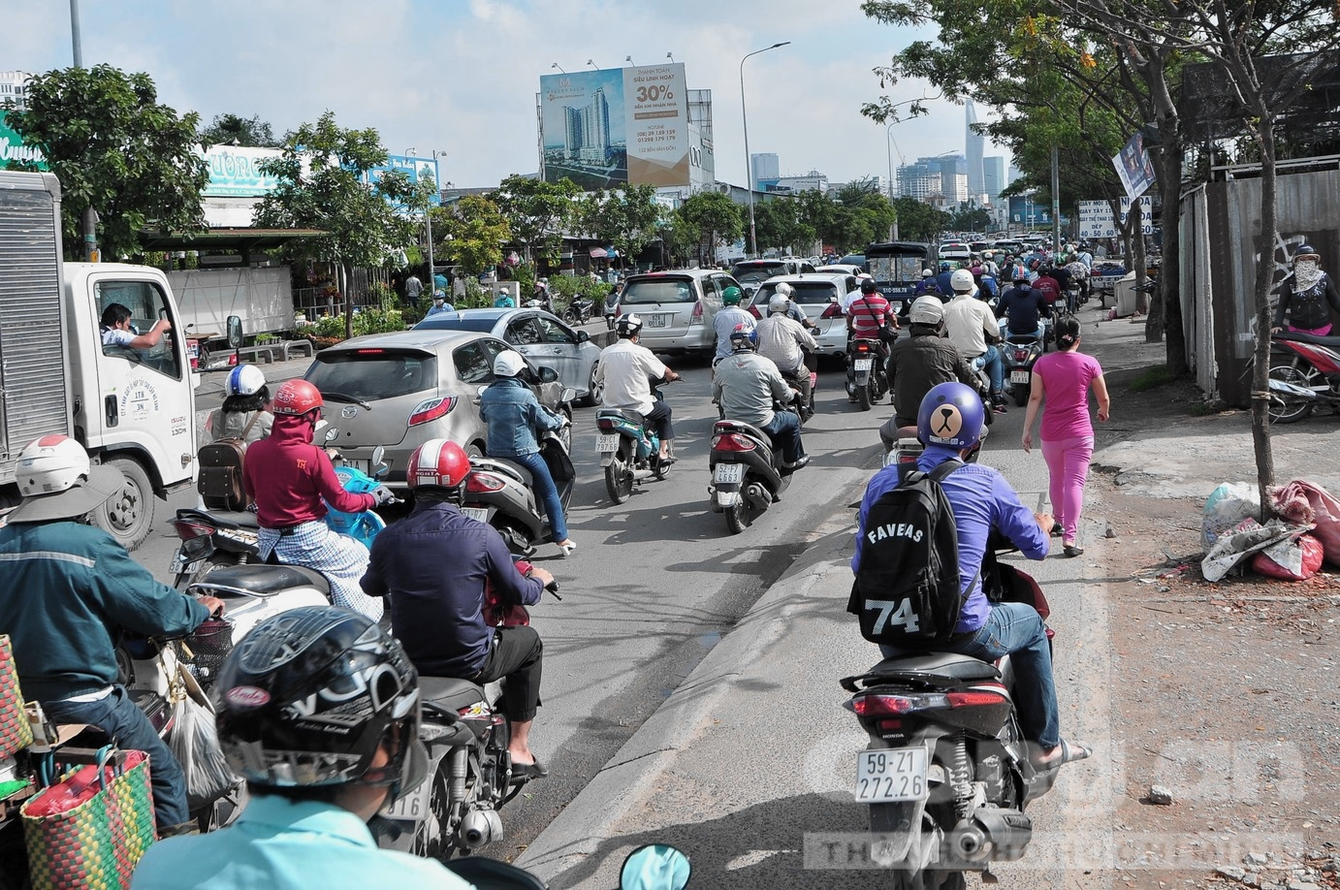Bien-so: (887, 748, 960, 805), (409, 781, 466, 825), (739, 474, 769, 497), (622, 449, 648, 470), (490, 520, 518, 538), (878, 371, 899, 385), (1038, 381, 1056, 396)
